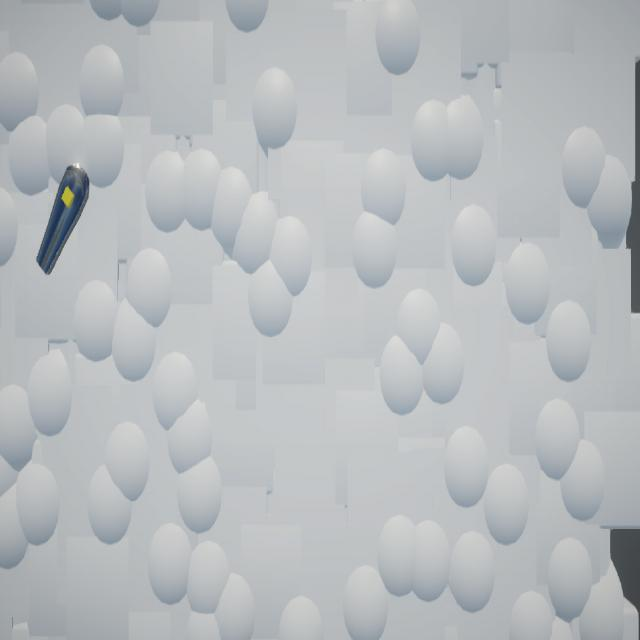handle_knife: (37, 164, 90, 276)
